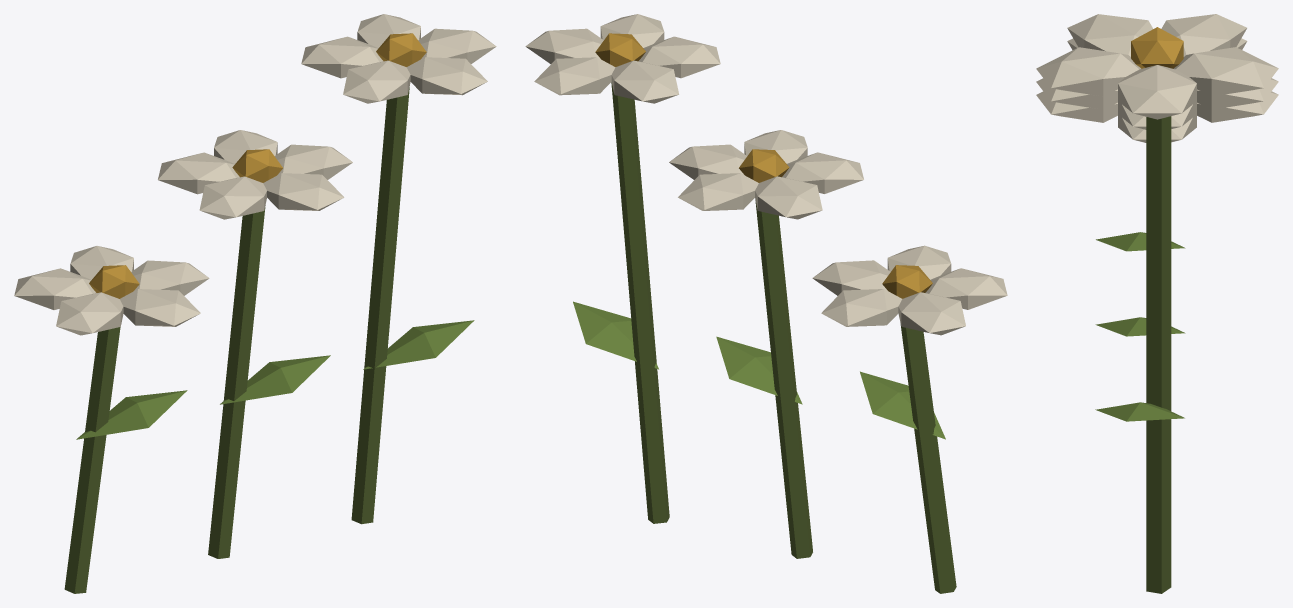
3 views of the same model, side by side, from view 1: azimuth 30°, elevation 25°; view 2: azimuth 150°, elevation 25°; view 3: azimuth 270°, elevation 25° (orthographic). The views are drawn at different scales.
Parts seen in each view (by area): view 1: V07_白色小花簇; view 2: V07_白色小花簇; view 3: V07_白色小花簇.
Part boxes in pixels (box(x1,y1,x2,y2)): V07_白色小花簇: box(14, 14, 496, 593); V07_白色小花簇: box(525, 14, 1007, 593); V07_白色小花簇: box(1036, 14, 1278, 593).
Bounding box in the file's own units: 0.4092 × 0.4118 × 0.1568.
